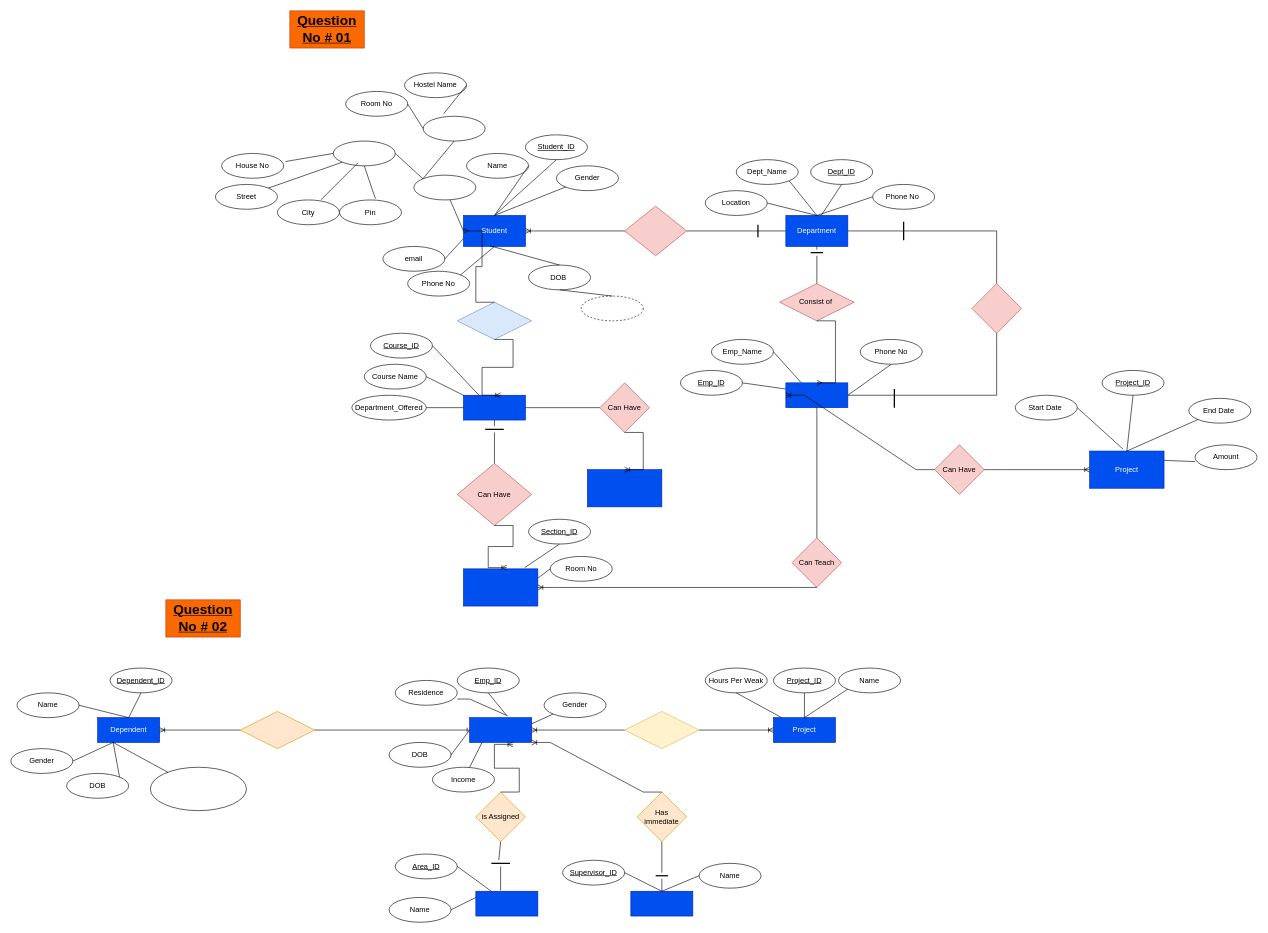
Some shapes in this 1268 by 933 pixel diagram are drawn without their labels. The shapes that lost their labels are listed below. From the top down, each one's centre as x and y in pixels, then its label:
At [454,128]: "Local Address".
At [364,153]: "Home Address".
At [444,187]: "Address".
At [655,231]: "Register in".
At [494,320]: "Relationship".
At [612,308]: "Age".
At [996,308]: "Head of".
At [494,407]: "Course".
At [816,395]: "Professor".
At [624,488]: "Prerequsites".
At [500,587]: "Section".
At [277,730]: "Belongs".
At [500,729]: "Employ".
At [661,730]: "Work in".
At [198,789]: "Relationship to Employee".
At [506,903]: "Area of Work".
At [661,903]: "Supervisor".
